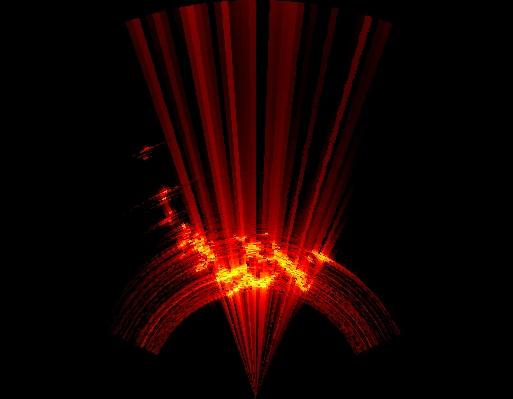shipwreck: (178, 224, 310, 296), (307, 251, 331, 262)
